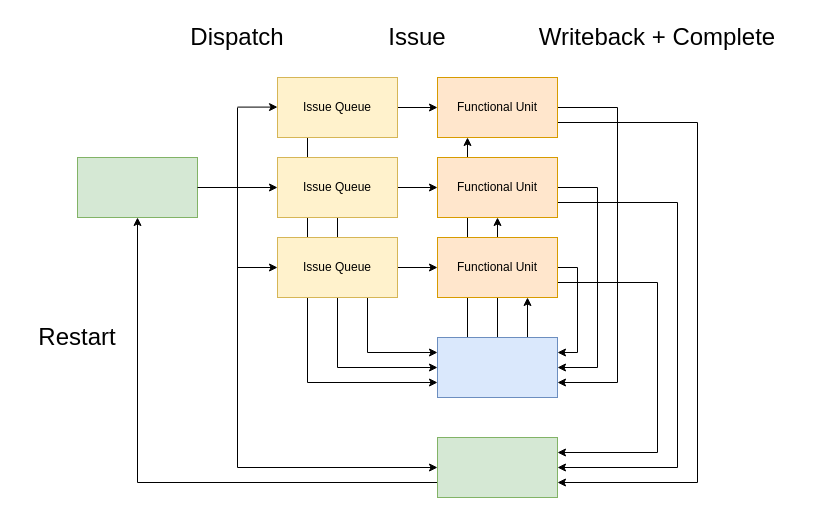
This 814x515 diagram has some shape labels left out. The shapes that lost their labels are listed below. From the top down, each one's centre as x and y in pixels, then its label:
(x=137, y=187): Frontend
(x=497, y=367): Physical Register File
(x=497, y=467): Reorder Buffer
